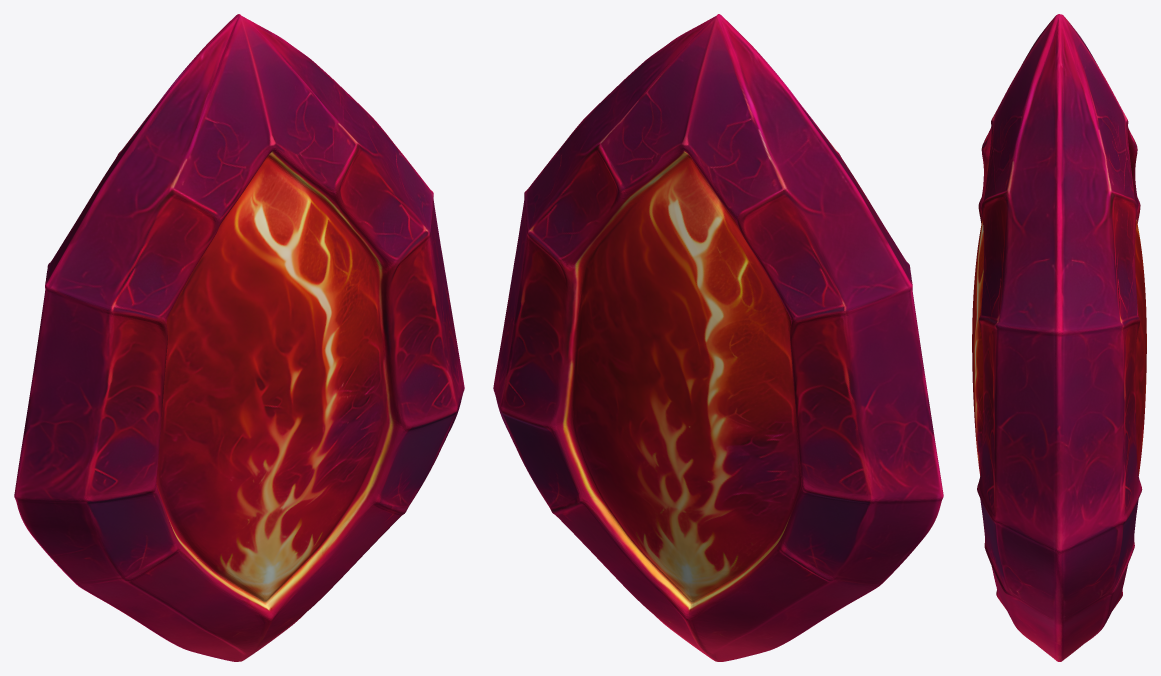
3 views of the same model, side by side, from view 1: azimuth 30°, elevation 25°; view 2: azimuth 150°, elevation 25°; view 3: azimuth 270°, elevation 25° (orthographic).
Parts seen in each view (by area): view 1: texture_pbr_v128; view 2: texture_pbr_v128; view 3: texture_pbr_v128.
Boxes of the visible parts, left/top/right/bottom form: texture_pbr_v128: left=14, top=14, right=464, bottom=661; texture_pbr_v128: left=493, top=14, right=943, bottom=661; texture_pbr_v128: left=972, top=14, right=1146, bottom=661.
Bounding box in the file's own units: 0.869 × 1.2 × 0.2935.
1 material, 1 textured.
